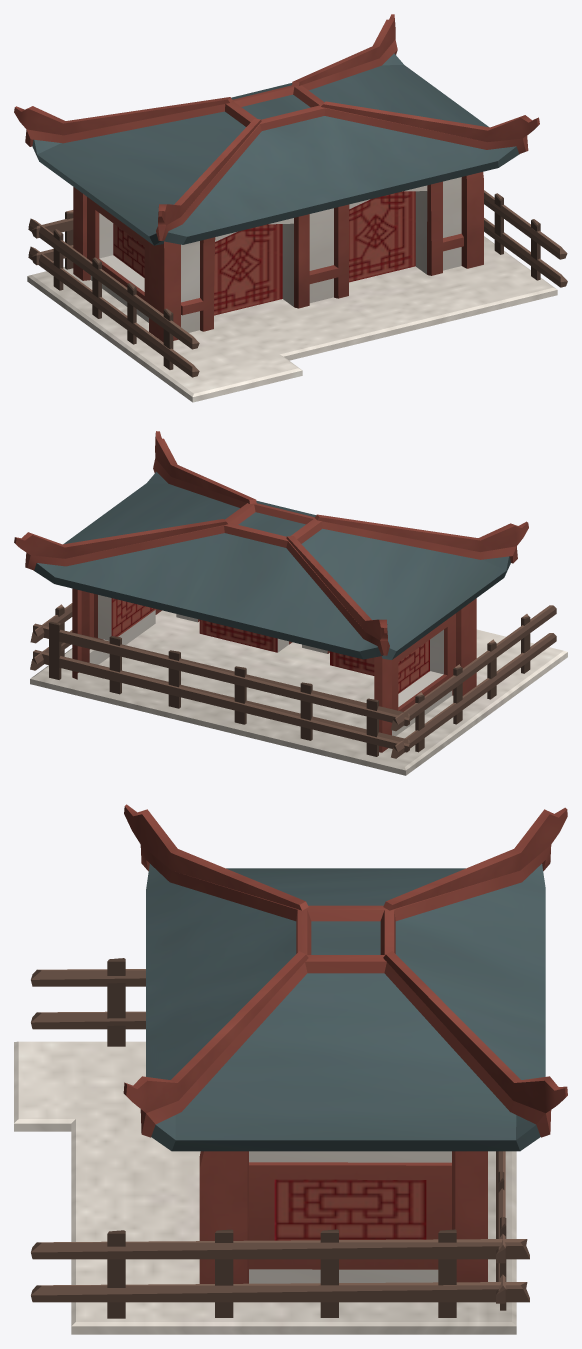
The model's file is camp_1lvl.fbx.
The picture shows the model from 3 angles, top to bottom: view 1: azimuth 30°, elevation 25°; view 2: azimuth 150°, elevation 25°; view 3: azimuth 270°, elevation 25°; orthographic projection. The views are drawn at different scales.
Parts seen in each view (by area): view 1: camp_1lvl; view 2: camp_1lvl; view 3: camp_1lvl.
Boxes of the visible parts, <box> form: camp_1lvl: <box>14,14,567,402</box>; camp_1lvl: <box>14,431,567,775</box>; camp_1lvl: <box>14,804,567,1334</box>.
Size of the model in its own units: 6.01 by 2.61 by 4.94.
